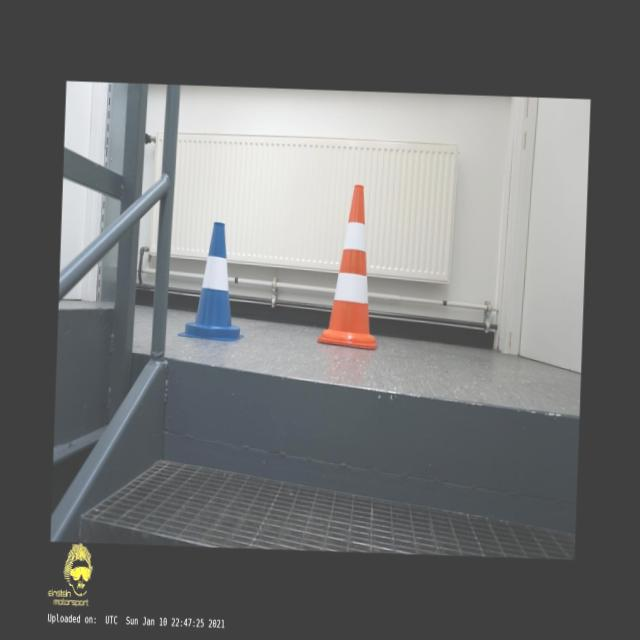blue_cone: (176, 220, 248, 340)
large_orange_cone: (315, 182, 383, 350)
